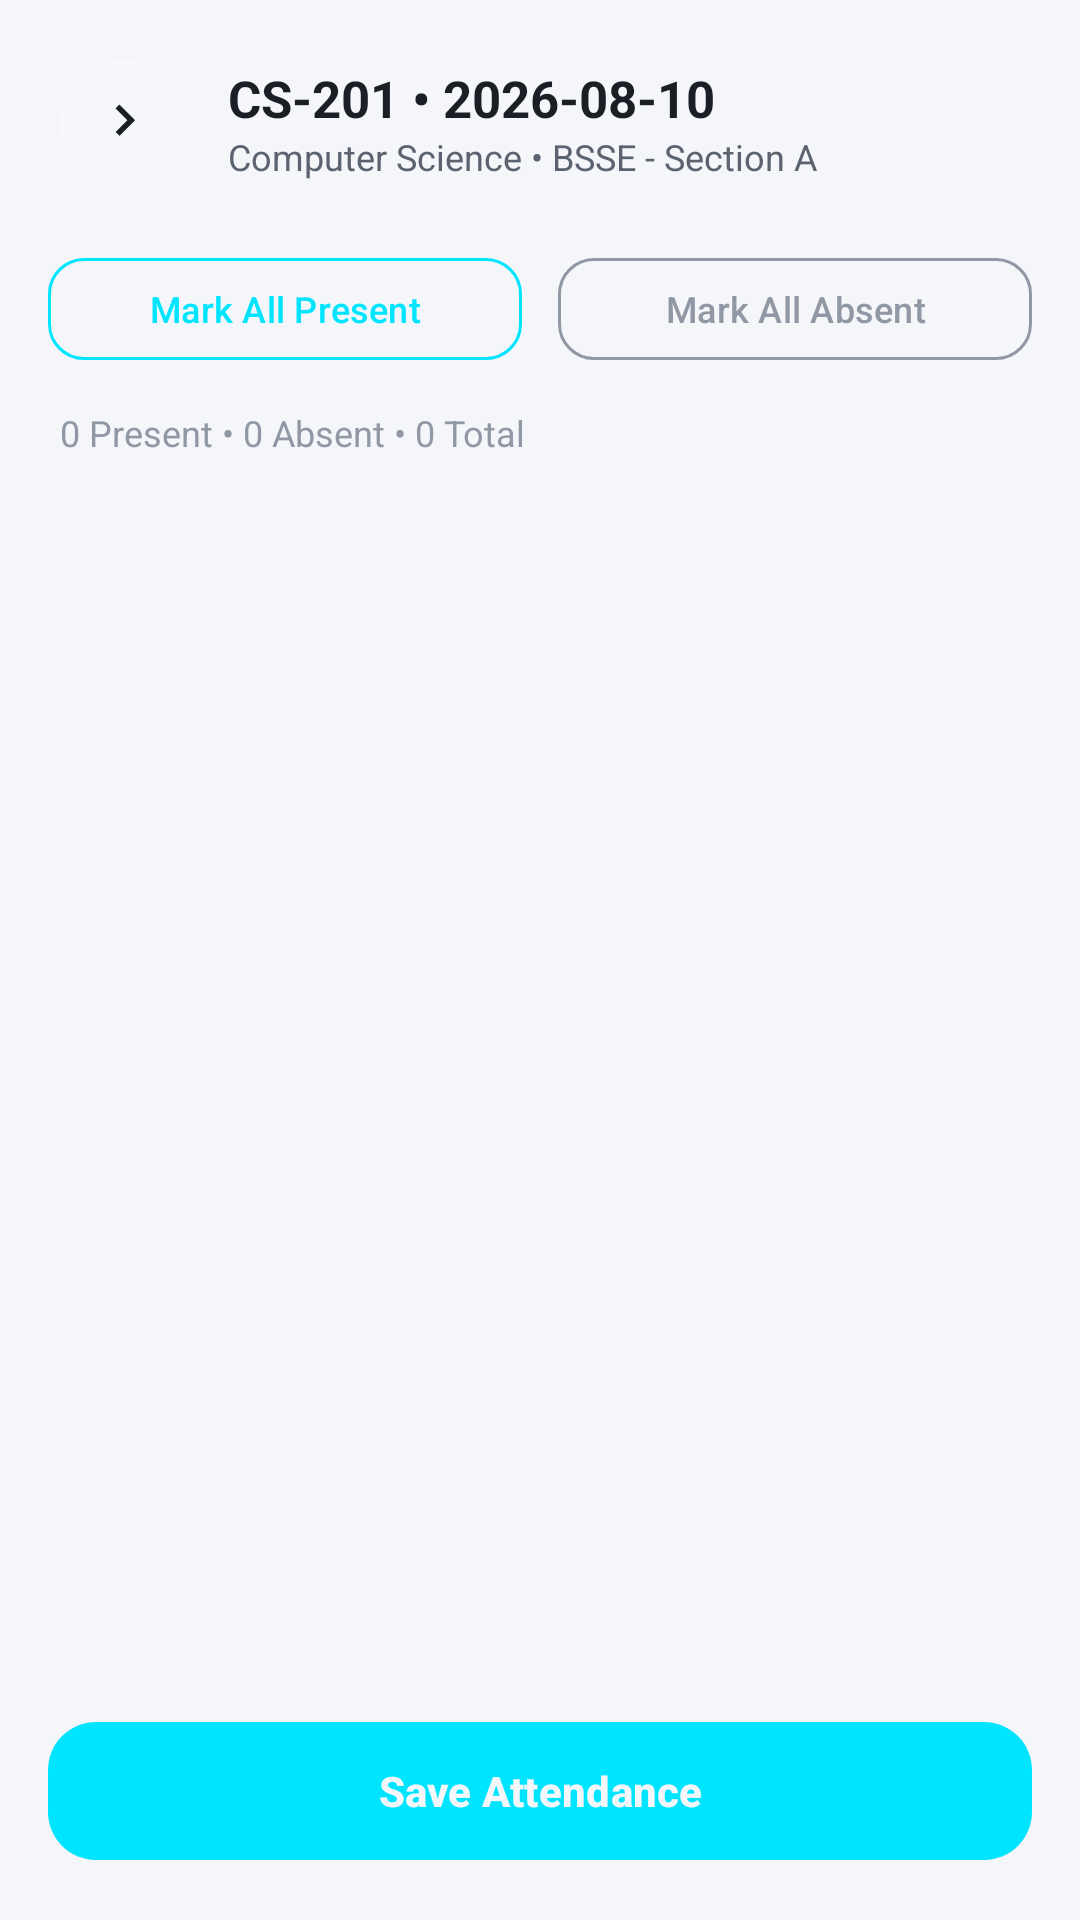

Where icons sit on this 1080x1920 app screen, as [x1=x1, y1=y1, x2=x2, y2=y2]:
arrow: [x1=115, y1=104, x2=135, y2=136]
